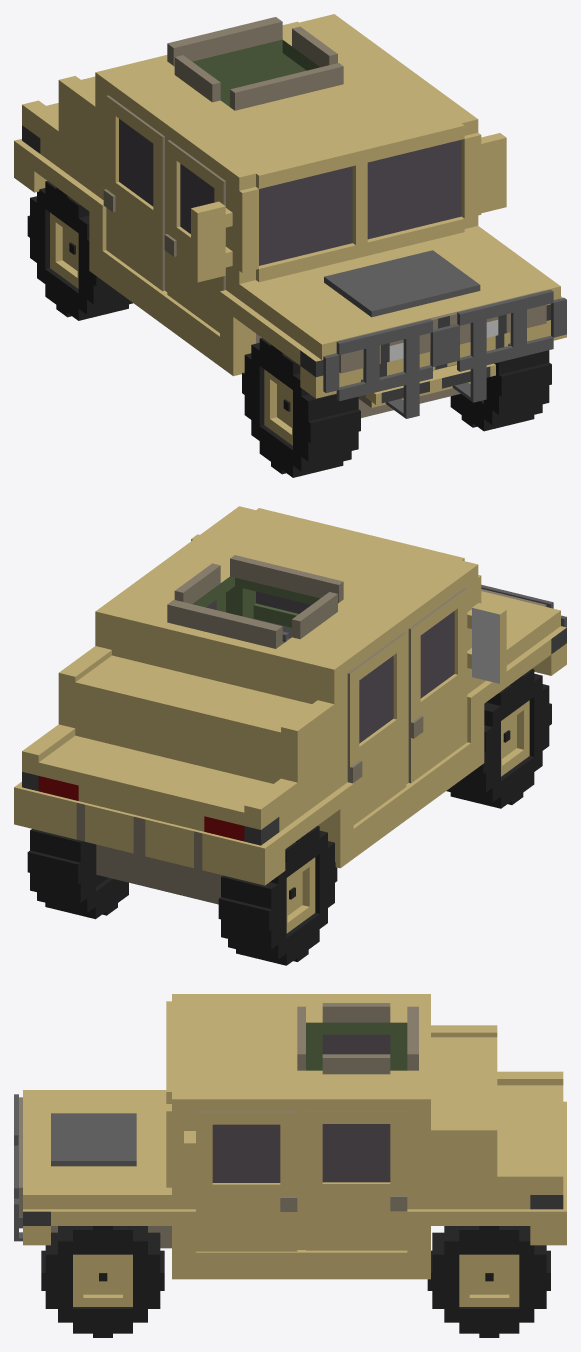
The model's file is militarCar.fbx.
3 renders of one model, top to bottom at view 1: azimuth 30°, elevation 25°; view 2: azimuth 150°, elevation 25°; view 3: azimuth 270°, elevation 25°, orthographic. The views are drawn at different scales.
Parts seen in each view (by area): view 1: humvee_body, humvee_detail, humvee_wheelFR, humvee_doorBR, humvee_wheelBR, humvee_doorFR, humvee_wheelFL; view 2: humvee_body, humvee_trunk, humvee_wheelBR, humvee_doorFR, humvee_doorBR, humvee_wheelFR, humvee_wheelBL, humvee_detail; view 3: humvee_body, humvee_detail, humvee_doorFL, humvee_doorBL, humvee_wheelFL, humvee_wheelBL, humvee_trunk, humvee_doorBR.
Part boxes in pixels (x1,y1,x2,y2): humvee_body: (14, 14, 506, 418); humvee_detail: (241, 231, 566, 401); humvee_wheelFR: (242, 338, 360, 477); humvee_doorBR: (103, 95, 164, 291); humvee_wheelBR: (27, 181, 132, 320); humvee_doorFR: (164, 140, 225, 332); humvee_wheelFL: (450, 350, 551, 431); humvee_body: (14, 506, 506, 904); humvee_trunk: (58, 660, 297, 820); humvee_wheelBR: (218, 825, 337, 965); humvee_doorFR: (408, 587, 467, 783); humvee_doorBR: (347, 632, 406, 824); humvee_wheelFR: (446, 669, 551, 808); humvee_wheelBL: (27, 829, 128, 919); humvee_detail: (481, 584, 566, 697); humvee_body: (14, 994, 566, 1279); humvee_detail: (14, 1090, 157, 1245); humvee_doorFL: (196, 1111, 297, 1251); humvee_doorBL: (306, 1111, 407, 1250); humvee_wheelFL: (41, 1226, 164, 1337); humvee_wheelBL: (427, 1226, 550, 1337); humvee_trunk: (431, 1046, 563, 1166); humvee_doorBR: (306, 1034, 407, 1070).
Size of the model in its own units: 340 by 297 by 585.
